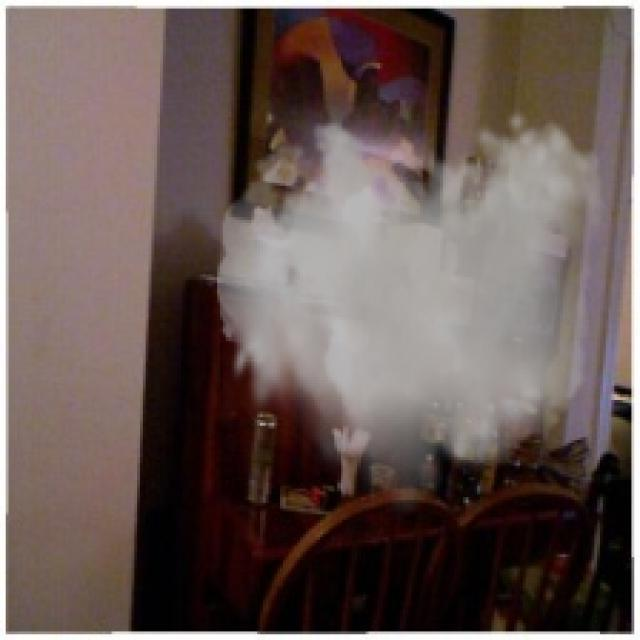Smoke: (217, 108, 606, 523)
